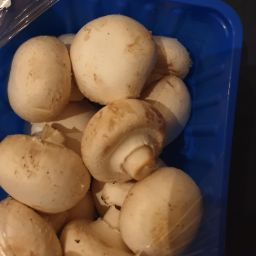Mushrooms: (21, 16, 192, 235), (109, 18, 206, 145), (91, 157, 211, 256), (61, 14, 171, 104), (78, 96, 177, 190), (2, 125, 91, 213), (2, 30, 75, 129), (51, 199, 143, 256), (1, 195, 74, 256)
